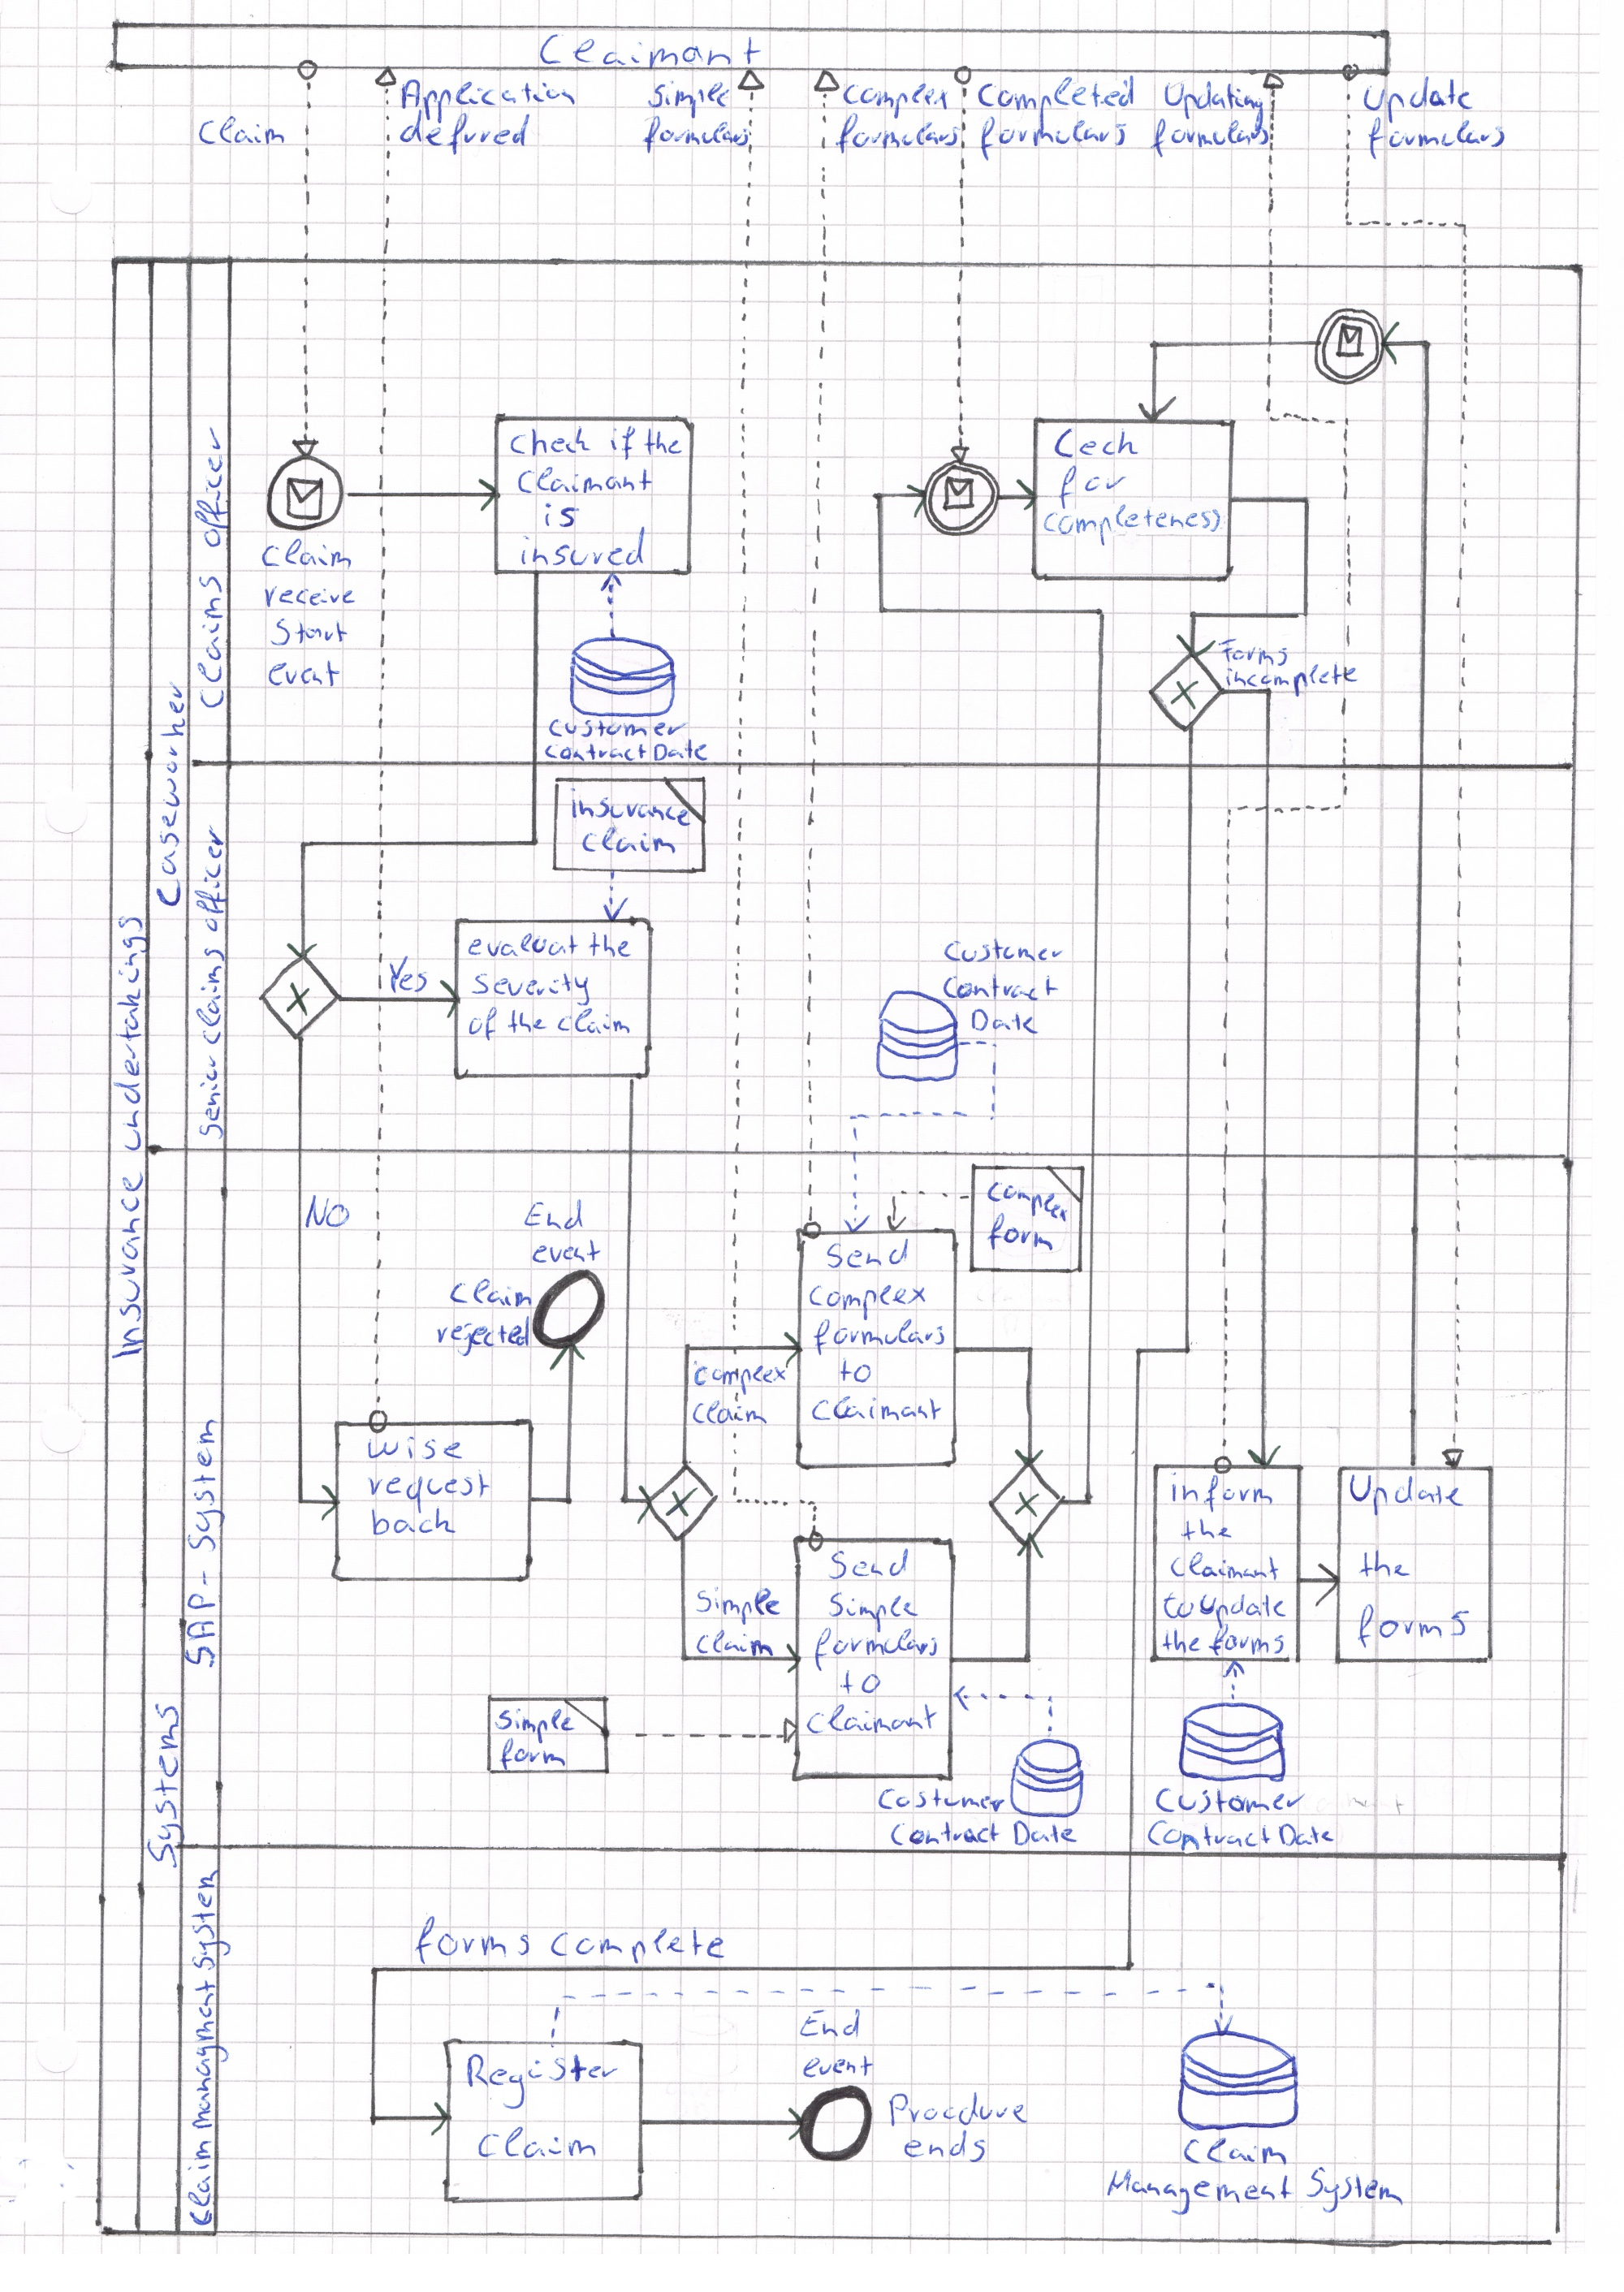Application: (401, 72, 584, 107)
Cech: (1053, 425, 1142, 464)
Check: (508, 427, 594, 462)
Claim: (193, 112, 294, 158), (448, 1276, 533, 1311), (692, 1399, 772, 1429)
Claimant: (538, 35, 777, 69), (515, 466, 657, 504), (810, 1700, 939, 1737), (812, 1394, 942, 1425), (1169, 1554, 1281, 1585)
Complex: (805, 1280, 932, 1315)
Contract: (1144, 1819, 1276, 1853), (888, 1821, 1011, 1851), (543, 740, 652, 766)
Costumer: (877, 1786, 1012, 1816)
Customer: (946, 939, 1063, 970)
Date: (972, 1007, 1040, 1039), (1281, 1817, 1339, 1853), (1016, 1819, 1081, 1847), (654, 738, 707, 766)
End: (526, 1199, 587, 1234), (803, 2014, 865, 2042)
Forms: (1218, 638, 1295, 670)
Insurance: (114, 1158, 148, 1362)
Management: (1107, 2169, 1294, 2209)
NO: (308, 1195, 353, 1232)
Procedure: (888, 2092, 1030, 2132)
Register: (459, 2051, 624, 2102)
SAP: (181, 1596, 220, 1663)
Send: (830, 1550, 910, 1582)
Senior: (195, 1049, 227, 1141)
Simple: (692, 1585, 784, 1624), (826, 1589, 921, 1624), (494, 1705, 575, 1742)
Start: (274, 619, 346, 649)
System: (186, 1418, 223, 1552), (186, 1854, 223, 1972), (1306, 2171, 1406, 2211)
Systems: (149, 1701, 186, 1861)
Update: (1350, 1471, 1475, 1515), (1366, 76, 1478, 118)
Updating: (1165, 74, 1264, 116)
Yes: (378, 953, 439, 1005)
back: (371, 1506, 457, 1541)
caseworker: (153, 678, 190, 905)
claim: (471, 2116, 598, 2167), (1181, 2139, 1295, 2171), (183, 2132, 220, 2229), (578, 826, 684, 859), (262, 541, 355, 575), (550, 1007, 634, 1042), (691, 1626, 780, 1656)
claims: (193, 559, 228, 707), (195, 937, 228, 1044)
complete: (547, 1921, 729, 1965)
completed: (977, 72, 1139, 114)
completeness: (1040, 501, 1227, 543)
complex: (979, 1176, 1077, 1225), (840, 72, 946, 112), (689, 1357, 789, 1394)
contract: (942, 972, 1063, 1004)
customer: (1155, 1786, 1308, 1819), (547, 717, 685, 742)
deferred: (402, 114, 534, 158)
ends: (902, 2130, 986, 2164)
evaluat: (466, 932, 578, 965)
event: (267, 661, 341, 691), (533, 1237, 601, 1267), (803, 2055, 874, 2081)
for: (1055, 466, 1134, 506)
form: (984, 1215, 1060, 1257), (497, 1738, 564, 1770)
forms: (1350, 1605, 1473, 1649), (411, 1921, 533, 1962), (1207, 1628, 1287, 1661)
formulars: (974, 116, 1139, 156), (1360, 118, 1506, 160), (1146, 116, 1274, 155), (808, 1629, 940, 1665), (808, 1320, 946, 1353), (638, 120, 750, 153), (831, 121, 954, 149)
if: (601, 427, 633, 461)
incomplete: (1223, 659, 1360, 693)
inform: (1165, 1468, 1276, 1508)
insurance: (566, 794, 696, 830)
insured: (515, 531, 650, 575)
is: (538, 501, 578, 534)
managment: (188, 1977, 221, 2127)
of: (462, 1005, 494, 1042)
officer: (193, 427, 230, 547), (195, 826, 228, 933)
receive: (260, 584, 359, 612)
rejected: (429, 1311, 533, 1359)
request: (364, 1469, 497, 1505)
send: (826, 1239, 914, 1273)
severity: (466, 963, 592, 1005)
simple: (645, 74, 749, 116)
the: (1353, 1550, 1413, 1584), (584, 932, 640, 963), (638, 427, 685, 461), (501, 1005, 543, 1042), (1160, 1628, 1204, 1659), (1179, 1517, 1232, 1543)
to: (826, 1668, 891, 1698), (835, 1355, 875, 1385)
to Update: (1162, 1591, 1287, 1624)
undertakings: (109, 900, 155, 1157)
wise: (367, 1434, 466, 1466)
